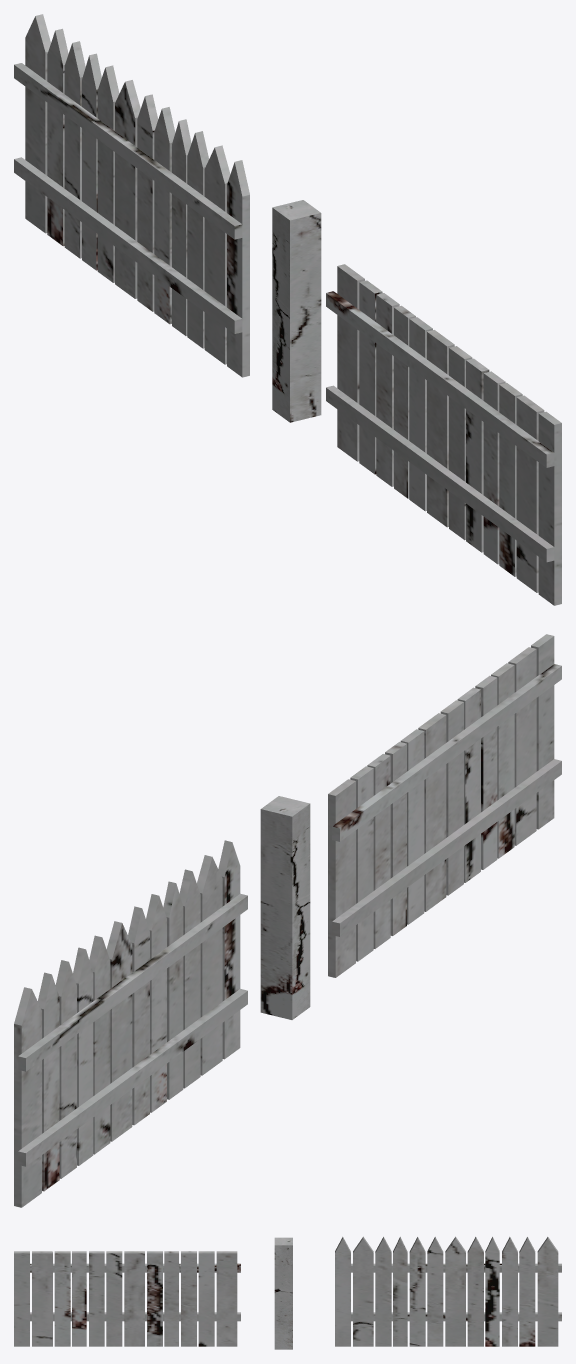
File: LowWoodFences.fbx
3 views of the same model, one above another, from view 1: azimuth 30°, elevation 25°; view 2: azimuth 150°, elevation 25°; view 3: azimuth 270°, elevation 25° (orthographic). The views are drawn at different scales.
Visible parts, largest first — view 1: Cylinder.018, Cylinder.016, Cylinder.017; view 2: Cylinder.018, Cylinder.016, Cylinder.017; view 3: Cylinder.018, Cylinder.016, Cylinder.017.
Part boxes in pixels (x1,y1,x2,y2): Cylinder.018: (14, 14, 249, 377); Cylinder.016: (326, 264, 561, 605); Cylinder.017: (272, 200, 321, 422); Cylinder.018: (14, 840, 247, 1207); Cylinder.016: (328, 634, 561, 977); Cylinder.017: (260, 796, 310, 1019); Cylinder.018: (335, 1236, 561, 1346); Cylinder.016: (14, 1251, 240, 1346); Cylinder.017: (274, 1237, 292, 1349).
Bounding box in the file's own units: 38.67 × 249 × 1144.
